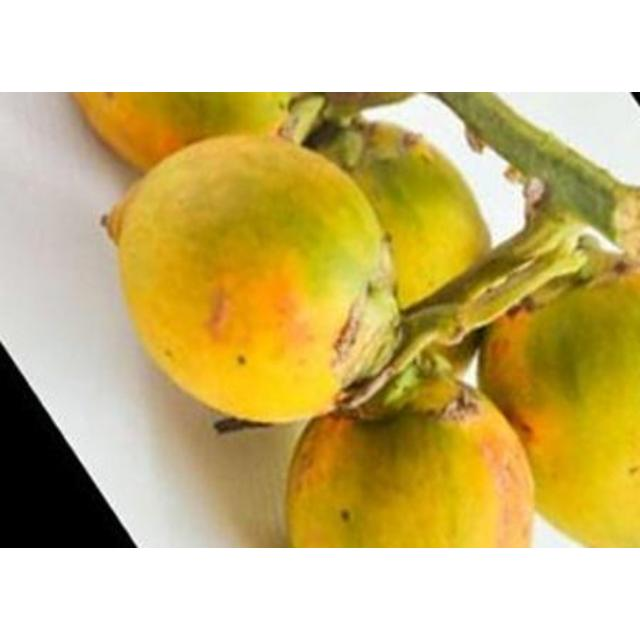good: (110, 136, 392, 420), (482, 264, 638, 544), (288, 388, 532, 546), (309, 119, 486, 313), (65, 94, 291, 170)
